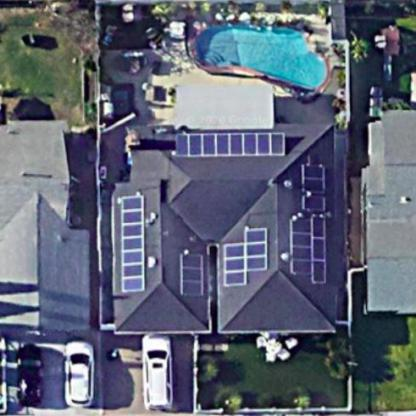car: (136, 333, 185, 413), (58, 333, 107, 409), (10, 337, 49, 400)
solar_panel: (288, 157, 336, 293), (171, 124, 293, 162), (114, 185, 150, 299), (221, 224, 274, 289), (178, 246, 209, 299)
swimming_pool: (179, 15, 335, 98)
